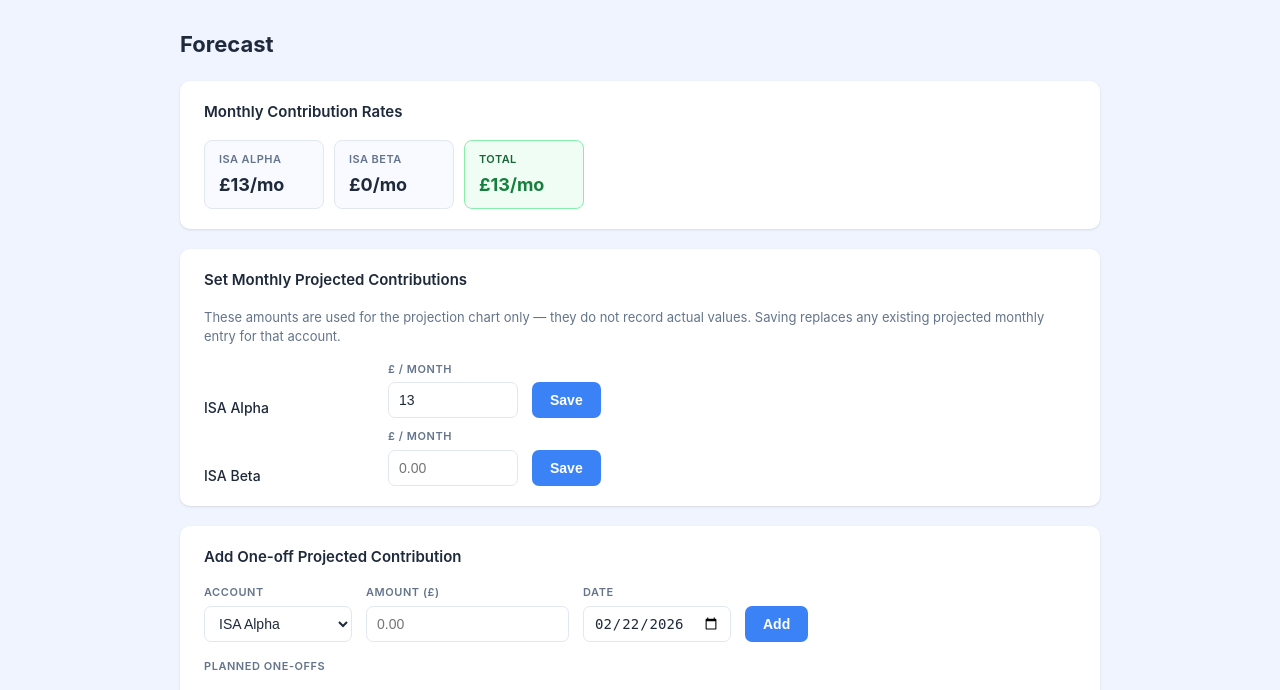
Test: Forecast page › shows a success notice after saving a recurring contribution
Check: the heading "Set Monthly Projected Contributions" is shown, box [204,270,467,289]
Replace the text in the 1st number field with placeholder "0.00" with "800": (453, 400) [388,382,518,418]
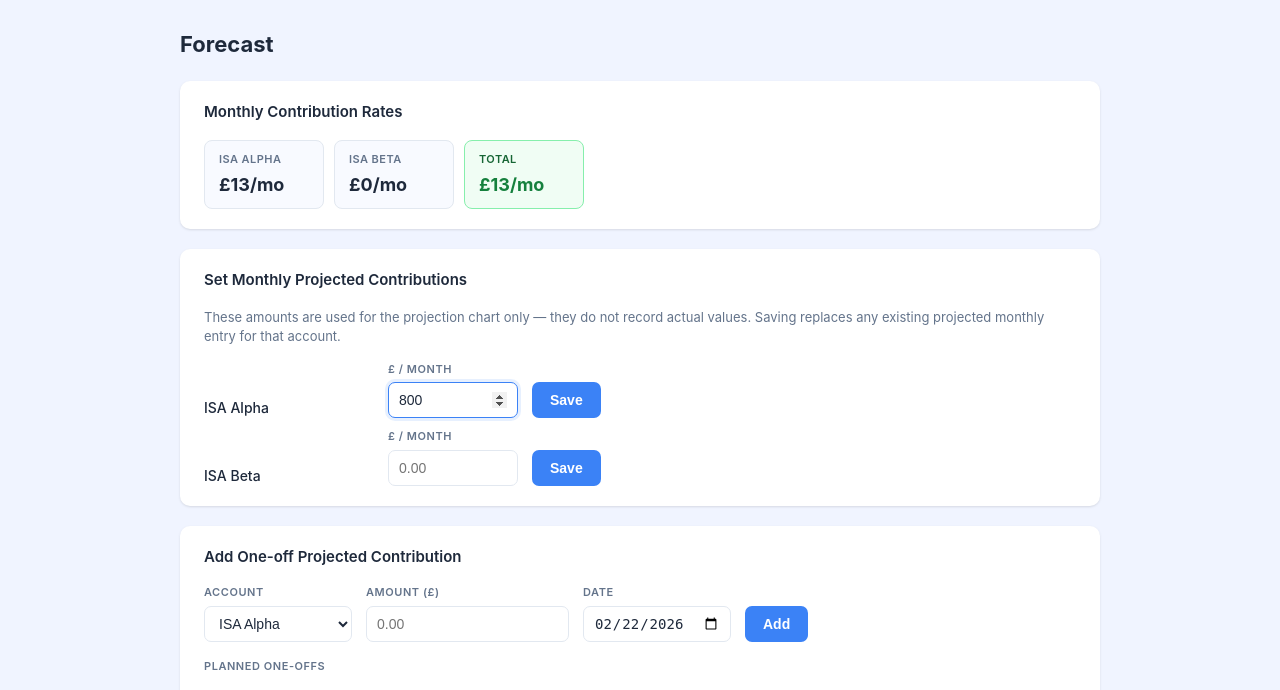
Click the 1st button "Save": (566, 400) [532,382,601,418]
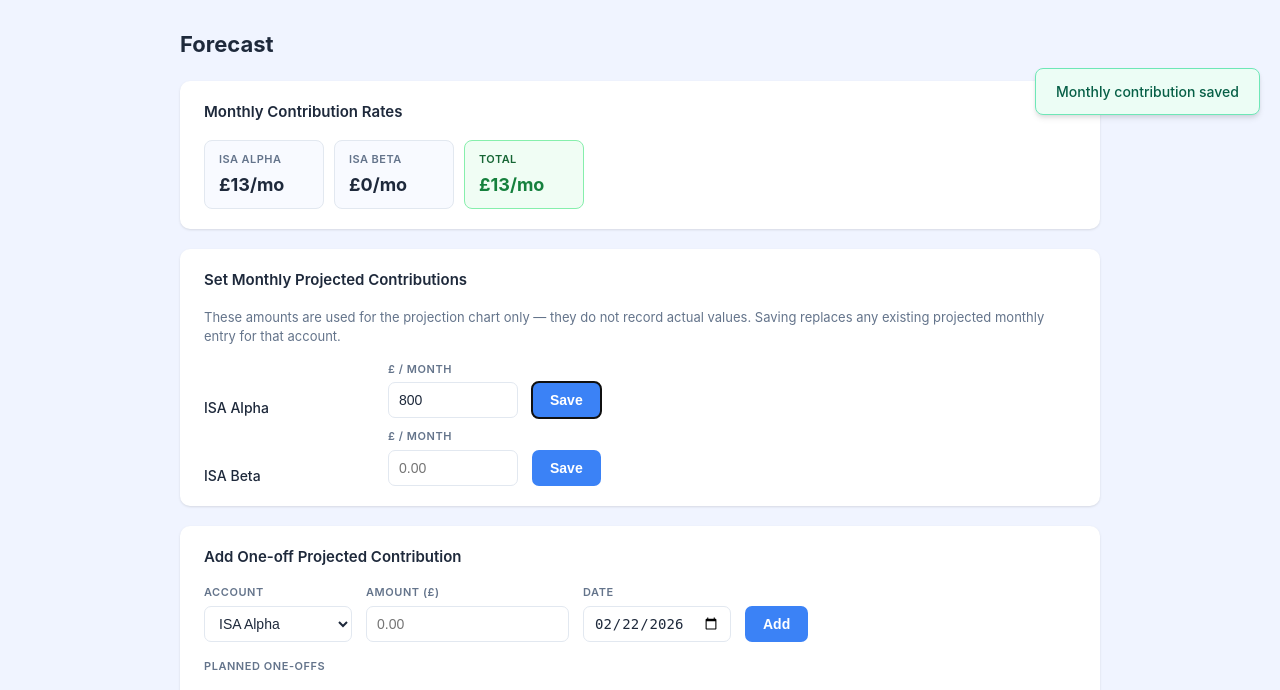
Check: the text "Monthly contribution saved" is shown, box [1035,68,1260,115]
